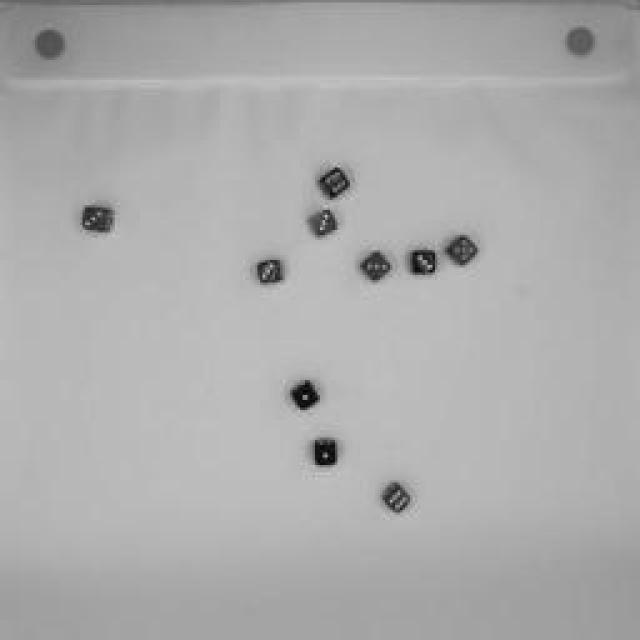dice_1: (288, 378, 324, 412), (312, 435, 342, 470)
dice_3: (359, 249, 396, 286), (304, 205, 341, 240), (81, 205, 119, 237), (252, 256, 288, 289), (409, 248, 441, 280)
dice_5: (444, 230, 481, 270)
dice_6: (315, 165, 355, 203), (380, 480, 415, 518)
